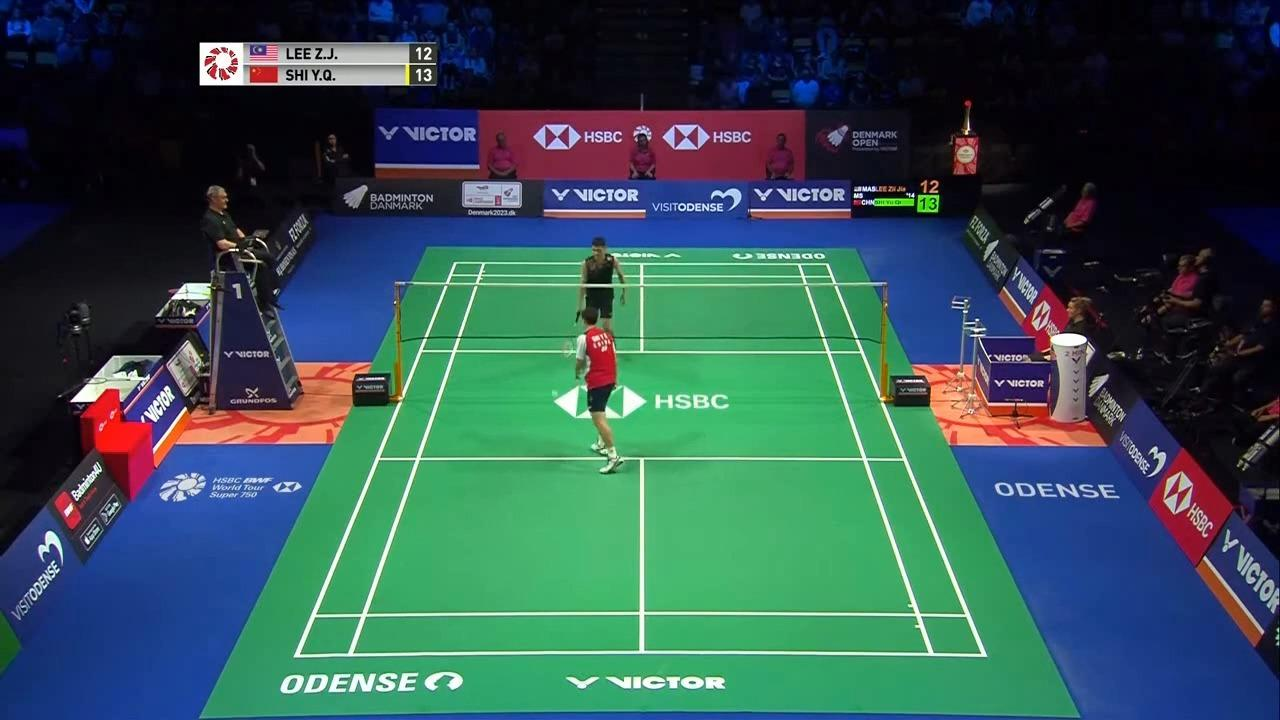shuttle: (548, 385, 561, 399)
